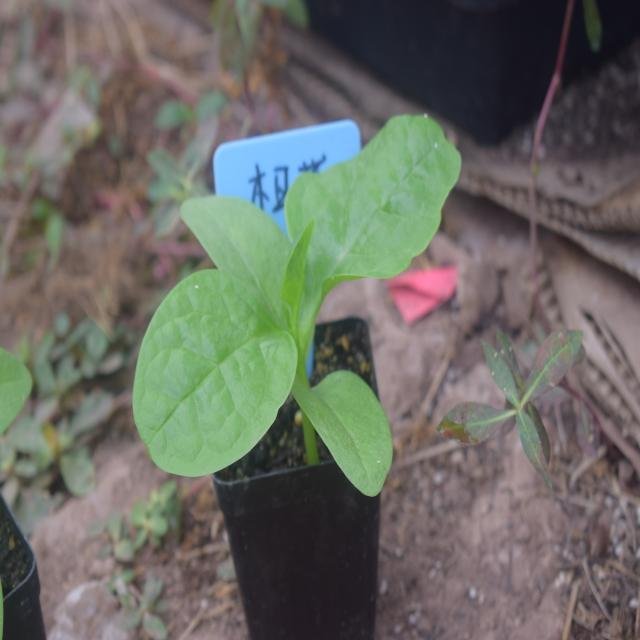Ceylon spinach: (122, 96, 457, 492)
